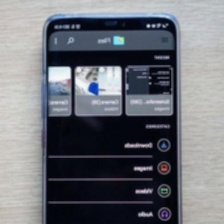phone: (38, 7, 183, 224)
